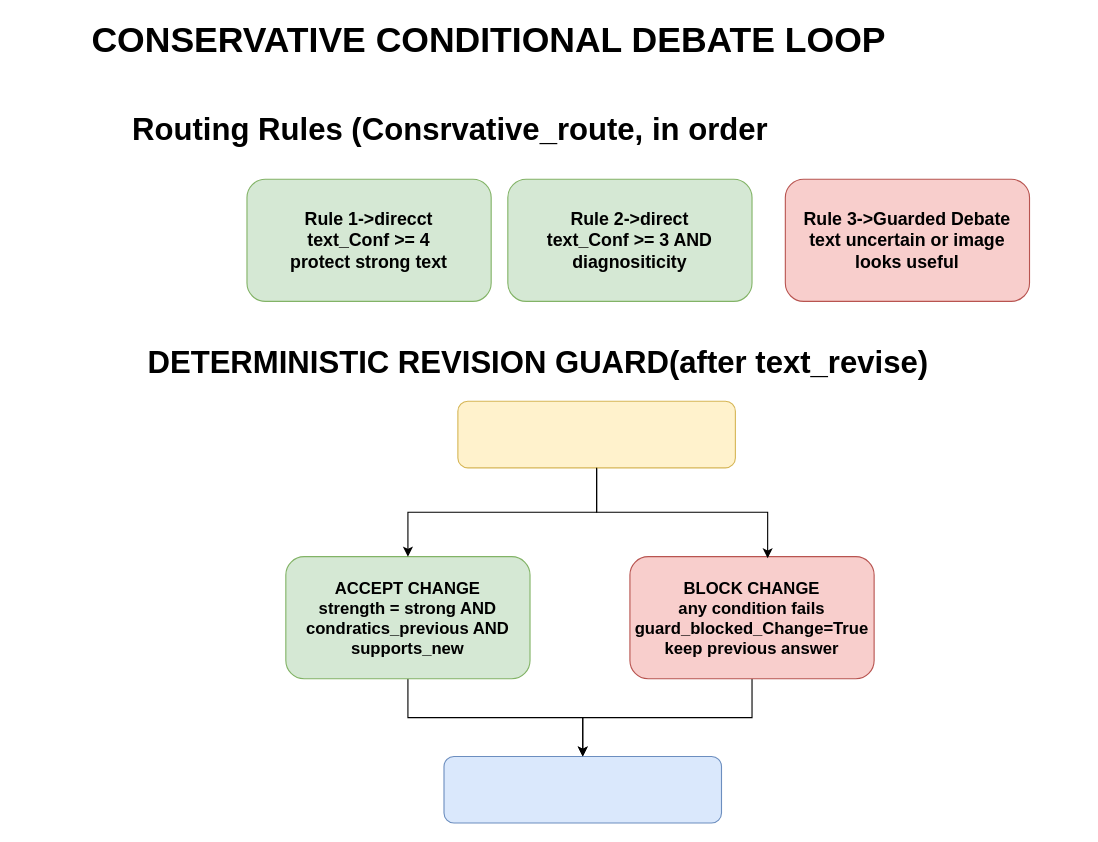
The diagram is 1098 pixels wide and 842 high, and some of its shapes have lost their labels. The shapes that lost their labels are listed below. From the top down, each one's centre as x and y in pixels, then its label:
At point 596,434: "Proposed Change? evaluate evidence".
At point 582,789: "guarded text answer = final".
